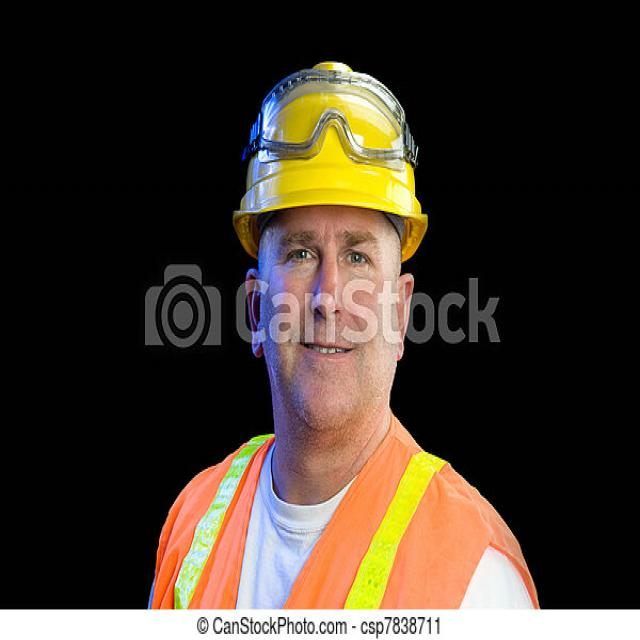Reflective-Jacket: (154, 423, 544, 610)
Safety-Helmet: (229, 60, 430, 258)
